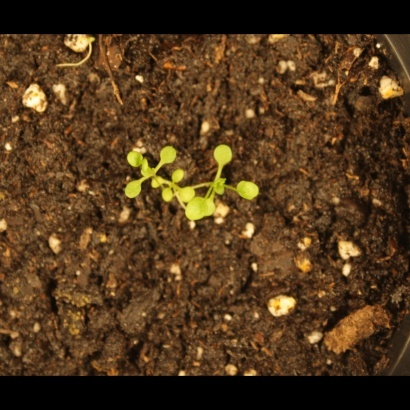leaf: (236, 177, 263, 205), (186, 196, 209, 222), (198, 195, 224, 218), (158, 143, 181, 166), (212, 144, 235, 167), (209, 175, 232, 198), (121, 178, 144, 201), (120, 147, 143, 170), (145, 168, 168, 191), (153, 186, 176, 209), (166, 167, 189, 190), (175, 182, 198, 205)
